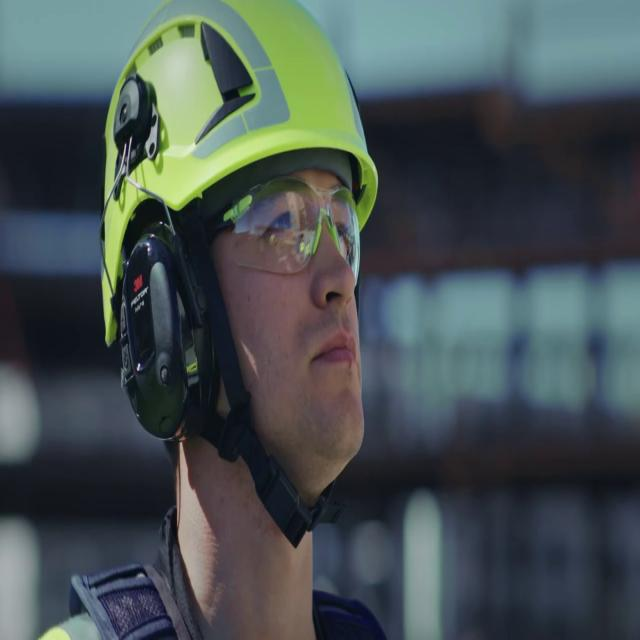earmuff: (131, 236, 206, 414)
glasses: (246, 190, 356, 260)
helmet: (140, 30, 287, 128)
